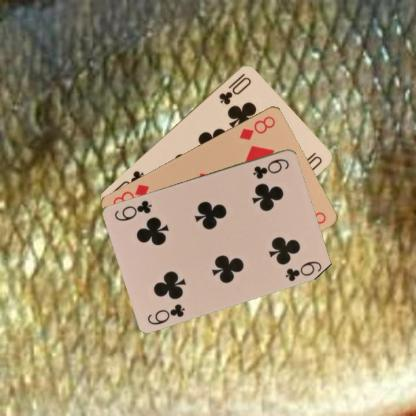10c: (216, 70, 253, 106)
6c: (145, 301, 187, 326), (250, 156, 291, 180)
8d: (236, 113, 277, 141)
